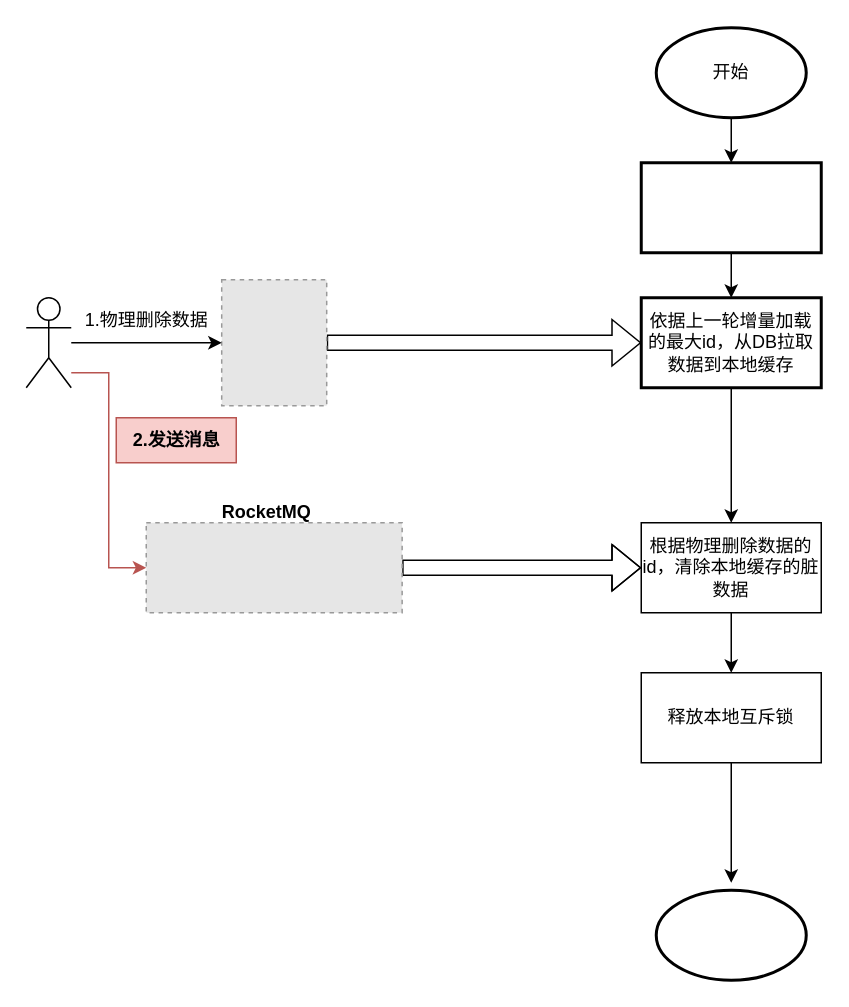
The diagram is 849 pixels wide and 1007 high, and some of its shapes have lost their labels. Grey dashed boxes stand in for pictures. Each missing label, with the centre of its shape:
"上游" belongs at pixel 48 342.
"结束" belongs at pixel 730 934.
"获取本地互斥锁" belongs at pixel 730 207.
